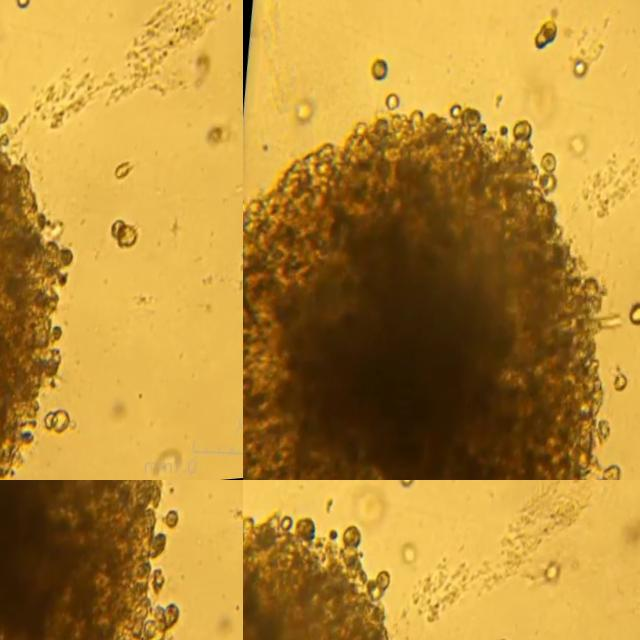cell: (531, 25, 560, 53), (46, 416, 64, 438), (379, 94, 397, 115), (541, 569, 556, 594), (294, 99, 309, 122), (565, 141, 582, 161), (368, 60, 384, 81), (115, 234, 132, 253), (625, 310, 640, 331), (607, 377, 622, 398), (161, 514, 176, 535), (110, 169, 128, 185), (105, 227, 120, 244), (13, 0, 31, 14), (570, 67, 585, 82), (37, 417, 50, 433), (396, 480, 412, 491)
tumor_mass: (243, 108, 617, 480), (243, 515, 387, 640)
